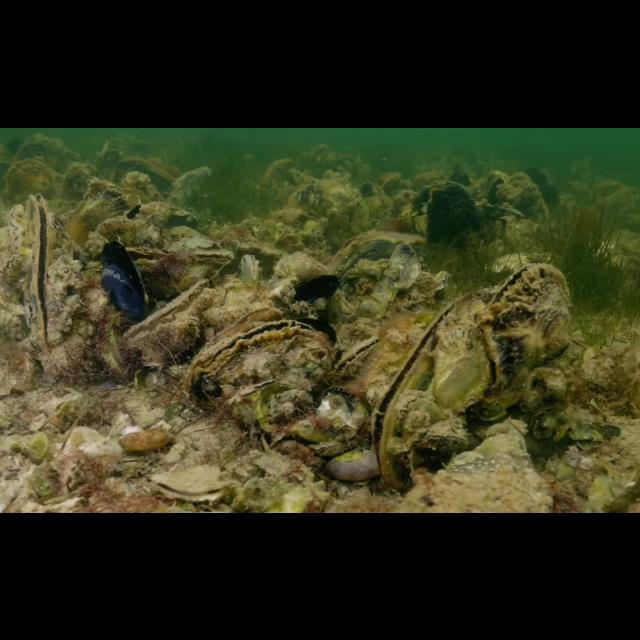Oyster-Closed: (124, 276, 208, 344), (327, 228, 427, 276), (96, 238, 150, 326), (124, 234, 232, 266), (402, 388, 442, 418), (4, 205, 28, 253), (306, 436, 348, 456), (1, 254, 25, 286)
Oyster-Open: (370, 282, 496, 490), (188, 318, 334, 396), (488, 262, 570, 400), (18, 190, 64, 352), (149, 458, 229, 502), (333, 336, 381, 376)
